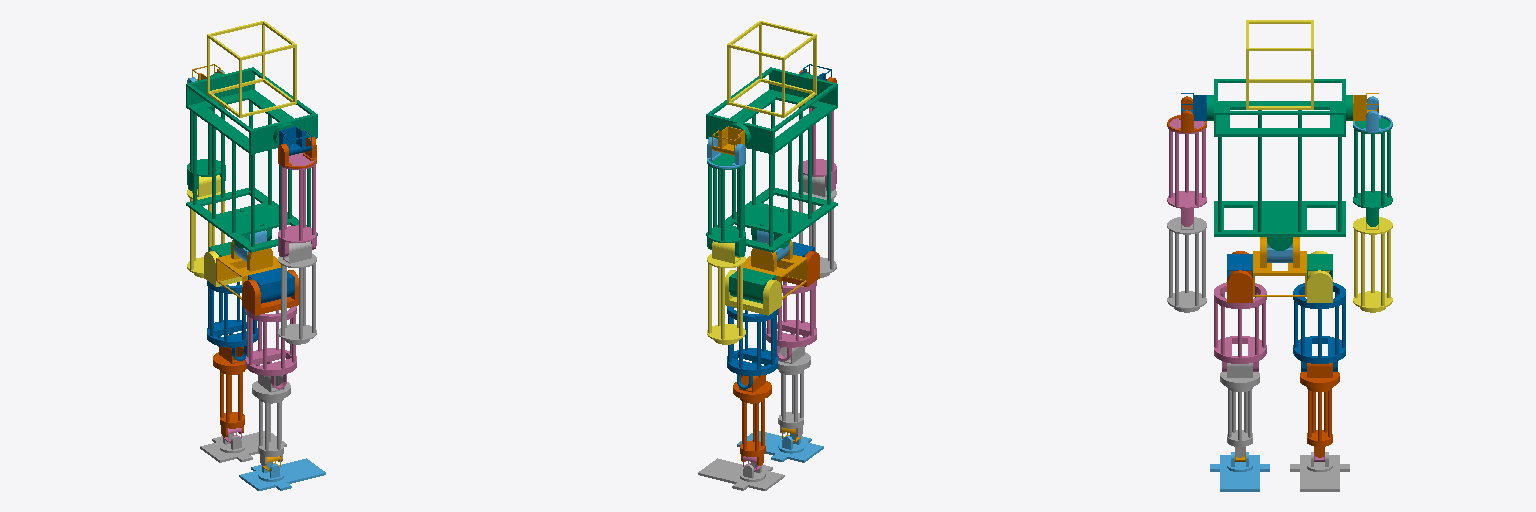
--- Render facts (derived) ---
3 views of the same robot in one strip: view 1: azimuth 30°, elevation 25°; view 2: azimuth 150°, elevation 25°; view 3: azimuth 270°, elevation 25° (orthographic).
Model olympian with 24 links and 23 joints (23 continuous), rooted at base_link, posed all joints at 0.
Visible links, largest first — view 1: Chest_v13_1, Lower_Arm_v8_1, Upper_Leg_v4_1, Upper_Arm_v10_1, Box_Head_v5_1, Upper_Leg_v4_2, Lower_Leg_v6_1, Lower_Leg_v6_2, Foot_v4_1, base_link, Lower_Arm_v8_2, Foot_v4_2 (+5 smaller); view 2: Chest_v13_1, Lower_Arm_v8_2, Upper_Leg_v4_2, Box_Head_v5_1, Upper_Arm_v10_3, Upper_Leg_v4_1, Lower_Leg_v6_2, Lower_Leg_v6_1, Foot_v4_2, base_link, Lower_Arm_v8_1, Foot_v4_1 (+5 smaller); view 3: Chest_v13_1, Upper_Leg_v4_2, Upper_Leg_v4_1, Lower_Arm_v8_1, Lower_Arm_v8_2, Upper_Arm_v10_1, Upper_Arm_v10_3, Lower_Leg_v6_1, Lower_Leg_v6_2, Foot_v4_1, Foot_v4_2, Box_Head_v5_1 (+5 smaller).
Boxes of the visible links, x1,y1,x2,y2 form: Chest_v13_1: [186, 67, 317, 252]; Lower_Arm_v8_1: [278, 241, 316, 344]; Upper_Leg_v4_1: [245, 306, 296, 389]; Upper_Arm_v10_1: [278, 153, 316, 256]; Box_Head_v5_1: [207, 21, 296, 117]; Upper_Leg_v4_2: [207, 281, 257, 360]; Lower_Leg_v6_1: [252, 375, 290, 465]; Lower_Leg_v6_2: [213, 335, 246, 437]; Foot_v4_1: [239, 458, 325, 490]; base_link: [216, 240, 280, 299]; Lower_Arm_v8_2: [187, 175, 225, 277]; Foot_v4_2: [200, 431, 286, 462]; Chest_v13_1: [706, 67, 837, 252]; Lower_Arm_v8_2: [707, 241, 745, 344]; Upper_Leg_v4_2: [727, 306, 777, 389]; Box_Head_v5_1: [727, 21, 816, 117]; Upper_Arm_v10_3: [707, 153, 745, 256]; Upper_Leg_v4_1: [766, 281, 816, 360]; Lower_Leg_v6_2: [733, 375, 771, 465]; Lower_Leg_v6_1: [777, 335, 810, 437]; Foot_v4_2: [698, 458, 784, 490]; base_link: [743, 240, 806, 299]; Lower_Arm_v8_1: [798, 175, 836, 277]; Foot_v4_1: [737, 431, 823, 462]; Chest_v13_1: [1207, 79, 1352, 250]; Upper_Leg_v4_2: [1293, 282, 1345, 371]; Upper_Leg_v4_1: [1214, 282, 1266, 371]; Lower_Arm_v8_1: [1167, 217, 1206, 312]; Lower_Arm_v8_2: [1353, 217, 1392, 312]; Upper_Arm_v10_1: [1167, 118, 1206, 226]; Upper_Arm_v10_3: [1353, 118, 1392, 226]; Lower_Leg_v6_1: [1220, 363, 1259, 457]; Lower_Leg_v6_2: [1300, 363, 1339, 457]; Foot_v4_1: [1210, 452, 1269, 491]; Foot_v4_2: [1290, 452, 1349, 491]; Box_Head_v5_1: [1246, 20, 1313, 109].
Bounding box of the posed robot: 0.35 × 0.85 × 1.81 m (x, y, z).
24 mesh visuals loaded from 24 distinct referenced files (24 binary STL).

robot.urdf — olympian:
<?xml version="1.0" ?>
<robot name="olympian">

<material name="silver">
  <color rgba="0.700 0.700 0.700 1.000"/>
</material>

<link name="base_link">
  <inertial>
    <origin rpy="0 0 0" xyz="0.10000000000000274 -1.5987211554602254e-16 0.8751666232732108"/>
    <mass value="1.1521008690150791"/>
    <inertia ixx="0.008991901943259162" ixy="-9.892367496064471e-18" ixz="0.0" iyy="0.005223496631877156" iyz="-6.132347048742014e-19" izz="0.008530264202422316"/>
  </inertial>
  <visual>
    <origin rpy="0 0 0" xyz="0 0 0"/>
    <geometry>
      <mesh filename="meshes/base_link.stl" scale="0.001 0.001 0.001"/>
    </geometry>
    <material name="silver"/>
    <material/>
  </visual>
  <collision>
    <origin rpy="0 0 0" xyz="0 0 0"/>
    <geometry>
      <mesh filename="meshes/base_link.stl" scale="0.001 0.001 0.001"/>
    </geometry>
  </collision>
</link>

<link name="Pelvis_v7_1">
  <inertial>
    <origin rpy="0 0 0" xyz="2.789435349370706e-15 0.049999999999999864 0.029353425629582097"/>
    <mass value="0.5947505206015595"/>
    <inertia ixx="0.0020170369281689027" ixy="-2.806717788186033e-19" ixz="6.938893903907228e-18" iyy="0.001878872568180201" iyz="-2.3514580861105255e-19" izz="0.0010976440297574977"/>
  </inertial>
  <visual>
    <origin rpy="0 0 0" xyz="-0.1 0.05 -0.915"/>
    <geometry>
      <mesh filename="meshes/Pelvis_v7_1.stl" scale="0.001 0.001 0.001"/>
    </geometry>
    <material name="silver"/>
    <material/>
  </visual>
  <collision>
    <origin rpy="0 0 0" xyz="-0.1 0.05 -0.915"/>
    <geometry>
      <mesh filename="meshes/Pelvis_v7_1.stl" scale="0.001 0.001 0.001"/>
    </geometry>
  </collision>
</link>

<link name="Chest_v13_1">
  <inertial>
    <origin rpy="0 0 0" xyz="0.03750000000000275 -8.168836624811604e-05 0.2954266005963746"/>
    <mass value="5.882339234080889"/>
    <inertia ixx="0.462024450225778" ixy="-1.2945373939476923e-16" ixz="-5.551115123125783e-16" iyy="0.3281120038896219" iyz="-0.0001155294730347088" izz="0.23780786856479988"/>
  </inertial>
  <visual>
    <origin rpy="0 0 0" xyz="-0.0625 0.0 -0.99"/>
    <geometry>
      <mesh filename="meshes/Chest_v13_1.stl" scale="0.001 0.001 0.001"/>
    </geometry>
    <material name="silver"/>
    <material/>
  </visual>
  <collision>
    <origin rpy="0 0 0" xyz="-0.0625 0.0 -0.99"/>
    <geometry>
      <mesh filename="meshes/Chest_v13_1.stl" scale="0.001 0.001 0.001"/>
    </geometry>
  </collision>
</link>

<link name="Box_Head_v5_1">
  <inertial>
    <origin rpy="0 0 0" xyz="1.8735013540549517e-15 2.486899575160351e-16 0.12700000029388225"/>
    <mass value="0.4129840000000015"/>
    <inertia ixx="0.00953546956266682" ixy="-1.2615370792445878e-16" ixz="-8.326672684688674e-17" iyy="0.009535469562667043" iyz="-9.005388077923778e-18" izz="0.009535469562666902"/>
  </inertial>
  <visual>
    <origin rpy="0 0 0" xyz="-0.1 0.0 -1.5564"/>
    <geometry>
      <mesh filename="meshes/Box_Head_v5_1.stl" scale="0.001 0.001 0.001"/>
    </geometry>
    <material name="silver"/>
    <material/>
  </visual>
  <collision>
    <origin rpy="0 0 0" xyz="-0.1 0.0 -1.5564"/>
    <geometry>
      <mesh filename="meshes/Box_Head_v5_1.stl" scale="0.001 0.001 0.001"/>
    </geometry>
  </collision>
</link>

<link name="Upper_Arm_Link_type_b_v9_1">
  <inertial>
    <origin rpy="0 0 0" xyz="3.011479954295737e-15 -0.03931045800644434 -0.010955881721682825"/>
    <mass value="0.11011202726048713"/>
    <inertia ixx="0.00018206077085142214" ixy="0.0" ixz="0.0" iyy="0.00016930933911268875" iyz="-1.861439297221046e-05" izz="0.00022075846035968932"/>
  </inertial>
  <visual>
    <origin rpy="0 0 0" xyz="-0.1 0.275 -1.5064"/>
    <geometry>
      <mesh filename="meshes/Upper_Arm_Link_type_b_v9_1.stl" scale="0.001 0.001 0.001"/>
    </geometry>
    <material name="silver"/>
    <material/>
  </visual>
  <collision>
    <origin rpy="0 0 0" xyz="-0.1 0.275 -1.5064"/>
    <geometry>
      <mesh filename="meshes/Upper_Arm_Link_type_b_v9_1.stl" scale="0.001 0.001 0.001"/>
    </geometry>
  </collision>
</link>

<link name="Upper_Arm_Roll_Link_v5_1">
  <inertial>
    <origin rpy="0 0 0" xyz="0.05000000000000271 7.771561172376096e-16 -0.022135117628713896"/>
    <mass value="0.29143432706119626"/>
    <inertia ixx="0.0002924682777393217" ixy="1.734723475976807e-18" ixz="-6.938893903907228e-18" iyy="0.001232763287599803" iyz="-2.7755575615628914e-17" izz="0.0011938412922212135"/>
  </inertial>
  <visual>
    <origin rpy="0 0 0" xyz="-0.05 0.35 -1.4939"/>
    <geometry>
      <mesh filename="meshes/Upper_Arm_Roll_Link_v5_1.stl" scale="0.001 0.001 0.001"/>
    </geometry>
    <material name="silver"/>
    <material/>
  </visual>
  <collision>
    <origin rpy="0 0 0" xyz="-0.05 0.35 -1.4939"/>
    <geometry>
      <mesh filename="meshes/Upper_Arm_Roll_Link_v5_1.stl" scale="0.001 0.001 0.001"/>
    </geometry>
  </collision>
</link>

<link name="Upper_Arm_v10_1">
  <inertial>
    <origin rpy="0 0 0" xyz="2.706168622523819e-15 -9.46964984205323e-09 -0.20731274229984487"/>
    <mass value="0.9419240929020993"/>
    <inertia ixx="0.018812734327517955" ixy="5.35682609381638e-15" ixz="2.7755575615628914e-17" iyy="0.019683528982801013" iyz="-1.6353901011179062e-09" izz="0.00349831999855843"/>
  </inertial>
  <visual>
    <origin rpy="0 0 0" xyz="-0.1 0.35 -1.43755"/>
    <geometry>
      <mesh filename="meshes/Upper_Arm_v10_1.stl" scale="0.001 0.001 0.001"/>
    </geometry>
    <material name="silver"/>
    <material/>
  </visual>
  <collision>
    <origin rpy="0 0 0" xyz="-0.1 0.35 -1.43755"/>
    <geometry>
      <mesh filename="meshes/Upper_Arm_v10_1.stl" scale="0.001 0.001 0.001"/>
    </geometry>
  </collision>
</link>

<link name="Lower_Arm_v8_1">
  <inertial>
    <origin rpy="0 0 0" xyz="-0.04999999999999716 -1.5210055437364645e-14 -0.22711717106463214"/>
    <mass value="1.1287862597517475"/>
    <inertia ixx="0.025477987567271376" ixy="5.370703881624195e-15" ixz="-1.3877787807814457e-17" iyy="0.025545638419054773" iyz="1.887379141862766e-15" izz="0.0030604925430051666"/>
  </inertial>
  <visual>
    <origin rpy="0 0 0" xyz="-0.15 0.35 -1.07005"/>
    <geometry>
      <mesh filename="meshes/Lower_Arm_v8_1.stl" scale="0.001 0.001 0.001"/>
    </geometry>
    <material name="silver"/>
    <material/>
  </visual>
  <collision>
    <origin rpy="0 0 0" xyz="-0.15 0.35 -1.07005"/>
    <geometry>
      <mesh filename="meshes/Lower_Arm_v8_1.stl" scale="0.001 0.001 0.001"/>
    </geometry>
  </collision>
</link>

<link name="Upper_Arm_Link_type_b_v9_2">
  <inertial>
    <origin rpy="0 0 0" xyz="2.5118795932144167e-15 0.039310458006443616 -0.010955881721682825"/>
    <mass value="0.11011202726048713"/>
    <inertia ixx="0.00018206077085147765" ixy="-1.3010426069826053e-18" ixz="-3.469446951953614e-18" iyy="0.00016930933911263324" iyz="1.8614392972175764e-05" izz="0.00022075846035969453"/>
  </inertial>
  <visual>
    <origin rpy="0 0 0" xyz="-0.1 -0.275 -1.5064"/>
    <geometry>
      <mesh filename="meshes/Upper_Arm_Link_type_b_v9_2.stl" scale="0.001 0.001 0.001"/>
    </geometry>
    <material name="silver"/>
    <material/>
  </visual>
  <collision>
    <origin rpy="0 0 0" xyz="-0.1 -0.275 -1.5064"/>
    <geometry>
      <mesh filename="meshes/Upper_Arm_Link_type_b_v9_2.stl" scale="0.001 0.001 0.001"/>
    </geometry>
  </collision>
</link>

<link name="Upper_Arm_Roll_Link_v5_2">
  <inertial>
    <origin rpy="0 0 0" xyz="0.0500000000000025 -1.0547118733938987e-15 -0.022135117628713452"/>
    <mass value="0.29143432706119626"/>
    <inertia ixx="0.0002924682777396548" ixy="0.0" ixz="0.0" iyy="0.001232763287599914" iyz="-5.551115123125783e-17" izz="0.0011938412922211997"/>
  </inertial>
  <visual>
    <origin rpy="0 0 0" xyz="-0.05 -0.35 -1.4939"/>
    <geometry>
      <mesh filename="meshes/Upper_Arm_Roll_Link_v5_2.stl" scale="0.001 0.001 0.001"/>
    </geometry>
    <material name="silver"/>
    <material/>
  </visual>
  <collision>
    <origin rpy="0 0 0" xyz="-0.05 -0.35 -1.4939"/>
    <geometry>
      <mesh filename="meshes/Upper_Arm_Roll_Link_v5_2.stl" scale="0.001 0.001 0.001"/>
    </geometry>
  </collision>
</link>

<link name="Upper_Arm_v10_3">
  <inertial>
    <origin rpy="0 0 0" xyz="2.6922908347160046e-15 -9.469651840454674e-09 -0.2073127422998453"/>
    <mass value="0.9419240929020993"/>
    <inertia ixx="0.018812734327517955" ixy="5.370703881624195e-15" ixz="1.3877787807814457e-17" iyy="0.019683528982801457" iyz="-1.6353899900956037e-09" izz="0.0034983199985584718"/>
  </inertial>
  <visual>
    <origin rpy="0 0 0" xyz="-0.1 -0.35 -1.43755"/>
    <geometry>
      <mesh filename="meshes/Upper_Arm_v10_3.stl" scale="0.001 0.001 0.001"/>
    </geometry>
    <material name="silver"/>
    <material/>
  </visual>
  <collision>
    <origin rpy="0 0 0" xyz="-0.1 -0.35 -1.43755"/>
    <geometry>
      <mesh filename="meshes/Upper_Arm_v10_3.stl" scale="0.001 0.001 0.001"/>
    </geometry>
  </collision>
</link>

<link name="Lower_Arm_v8_2">
  <inertial>
    <origin rpy="0 0 0" xyz="0.05000000000000264 -1.7263968032921184e-14 -0.22711717106463192"/>
    <mass value="1.1287862597517475"/>
    <inertia ixx="0.025477987567271376" ixy="5.3637649877202875e-15" ixz="0.0" iyy="0.02554563841905466" iyz="1.7763568394002505e-15" izz="0.003060492543005139"/>
  </inertial>
  <visual>
    <origin rpy="0 0 0" xyz="-0.05 -0.35 -1.07005"/>
    <geometry>
      <mesh filename="meshes/Lower_Arm_v8_2.stl" scale="0.001 0.001 0.001"/>
    </geometry>
    <material name="silver"/>
    <material/>
  </visual>
  <collision>
    <origin rpy="0 0 0" xyz="-0.05 -0.35 -1.07005"/>
    <geometry>
      <mesh filename="meshes/Lower_Arm_v8_2.stl" scale="0.001 0.001 0.001"/>
    </geometry>
  </collision>
</link>

<link name="Leg_Pitch_v5_1">
  <inertial>
    <origin rpy="0 0 0" xyz="2.7478019859472624e-15 -0.04683508876022918 0.003164911239771362"/>
    <mass value="0.3280666863874879"/>
    <inertia ixx="0.0009464761938969279" ixy="0.0" ixz="6.938893903907228e-18" iyy="0.0010883631339250188" iyz="5.307553597741488e-05" izz="0.0010883631339250258"/>
  </inertial>
  <visual>
    <origin rpy="0 0 0" xyz="-0.1 0.1 -0.815"/>
    <geometry>
      <mesh filename="meshes/Leg_Pitch_v5_1.stl" scale="0.001 0.001 0.001"/>
    </geometry>
    <material name="silver"/>
    <material/>
  </visual>
  <collision>
    <origin rpy="0 0 0" xyz="-0.1 0.1 -0.815"/>
    <geometry>
      <mesh filename="meshes/Leg_Pitch_v5_1.stl" scale="0.001 0.001 0.001"/>
    </geometry>
  </collision>
</link>

<link name="Leg_Roll_v4_1">
  <inertial>
    <origin rpy="0 0 0" xyz="0.07500000000000276 2.498001805406602e-16 -0.035223067053444135"/>
    <mass value="1.3532798434145876"/>
    <inertia ixx="0.002693883608054004" ixy="3.469446951953614e-18" ixz="0.0" iyy="0.008928053332240449" iyz="0.0" izz="0.00837264452845498"/>
  </inertial>
  <visual>
    <origin rpy="0 0 0" xyz="-0.025 0.15 -0.815"/>
    <geometry>
      <mesh filename="meshes/Leg_Roll_v4_1.stl" scale="0.001 0.001 0.001"/>
    </geometry>
    <material name="silver"/>
    <material/>
  </visual>
  <collision>
    <origin rpy="0 0 0" xyz="-0.025 0.15 -0.815"/>
    <geometry>
      <mesh filename="meshes/Leg_Roll_v4_1.stl" scale="0.001 0.001 0.001"/>
    </geometry>
  </collision>
</link>

<link name="Upper_Leg_v4_1">
  <inertial>
    <origin rpy="0 0 0" xyz="2.4702462297909733e-15 1.6653345369377348e-16 -0.15757232755407302"/>
    <mass value="1.7214182603818151"/>
    <inertia ixx="0.024564314520888808" ixy="-3.469446951953614e-18" ixz="2.7755575615628914e-17" iyy="0.023647064861463507" iyz="-2.7755575615628914e-17" izz="0.01202868114191328"/>
  </inertial>
  <visual>
    <origin rpy="0 0 0" xyz="-0.1 0.15 -0.74"/>
    <geometry>
      <mesh filename="meshes/Upper_Leg_v4_1.stl" scale="0.001 0.001 0.001"/>
    </geometry>
    <material name="silver"/>
    <material/>
  </visual>
  <collision>
    <origin rpy="0 0 0" xyz="-0.1 0.15 -0.74"/>
    <geometry>
      <mesh filename="meshes/Upper_Leg_v4_1.stl" scale="0.001 0.001 0.001"/>
    </geometry>
  </collision>
</link>

<link name="Lower_Leg_v6_1">
  <inertial>
    <origin rpy="0 0 0" xyz="2.345346139520643e-15 0.04999999999999144 -0.14147821247779985"/>
    <mass value="1.4272888897799032"/>
    <inertia ixx="0.020278823604420432" ixy="-2.2169766022983595e-15" ixz="2.0816681711721685e-17" iyy="0.02027203031763286" iyz="-1.3183898417423734e-15" izz="0.003070799531336911"/>
  </inertial>
  <visual>
    <origin rpy="0 0 0" xyz="-0.1 0.2 -0.4418"/>
    <geometry>
      <mesh filename="meshes/Lower_Leg_v6_1.stl" scale="0.001 0.001 0.001"/>
    </geometry>
    <material name="silver"/>
    <material/>
  </visual>
  <collision>
    <origin rpy="0 0 0" xyz="-0.1 0.2 -0.4418"/>
    <geometry>
      <mesh filename="meshes/Lower_Leg_v6_1.stl" scale="0.001 0.001 0.001"/>
    </geometry>
  </collision>
</link>

<link name="Ankle_Link_v5_1">
  <inertial>
    <origin rpy="0 0 0" xyz="0.03000000000000269 5.551115123125783e-16 -0.014239102534719814"/>
    <mass value="0.02966359637804546"/>
    <inertia ixx="2.6914982867941393e-05" ixy="0.0" ixz="-1.0842021724855044e-19" iyy="3.13471723067344e-05" iyz="5.421010862427522e-20" izz="1.4582407636994869e-05"/>
  </inertial>
  <visual>
    <origin rpy="0 0 0" xyz="-0.07 0.15 -0.0886"/>
    <geometry>
      <mesh filename="meshes/Ankle_Link_v5_1.stl" scale="0.001 0.001 0.001"/>
    </geometry>
    <material name="silver"/>
    <material/>
  </visual>
  <collision>
    <origin rpy="0 0 0" xyz="-0.07 0.15 -0.0886"/>
    <geometry>
      <mesh filename="meshes/Ankle_Link_v5_1.stl" scale="0.001 0.001 0.001"/>
    </geometry>
  </collision>
</link>

<link name="Foot_v4_1">
  <inertial>
    <origin rpy="0 0 0" xyz="0.03625642783113289 0.019685521169741094 -0.0403940100478858"/>
    <mass value="0.8921618023336354"/>
    <inertia ixx="0.001976748372483468" ixy="2.766319069119616e-06" ixz="0.0001489881145850828" iyy="0.005514801902865209" iyz="-1.2922841769059251e-06" izz="0.00723725227735432"/>
  </inertial>
  <visual>
    <origin rpy="0 0 0" xyz="-0.1 0.17 -0.0536"/>
    <geometry>
      <mesh filename="meshes/Foot_v4_1.stl" scale="0.001 0.001 0.001"/>
    </geometry>
    <material name="silver"/>
    <material/>
  </visual>
  <collision>
    <origin rpy="0 0 0" xyz="-0.1 0.17 -0.0536"/>
    <geometry>
      <mesh filename="meshes/Foot_v4_1.stl" scale="0.001 0.001 0.001"/>
    </geometry>
  </collision>
</link>

<link name="Leg_Pitch_v5_2">
  <inertial>
    <origin rpy="0 0 0" xyz="2.3869795029440866e-15 0.046835088760228516 0.003164911239771251"/>
    <mass value="0.3280666863874879"/>
    <inertia ixx="0.0009464761938969557" ixy="-8.673617379884035e-19" ixz="3.469446951953614e-18" iyy="0.001088363133924991" iyz="-5.307553597740794e-05" izz="0.0010883631339250258"/>
  </inertial>
  <visual>
    <origin rpy="0 0 0" xyz="-0.1 -0.1 -0.815"/>
    <geometry>
      <mesh filename="meshes/Leg_Pitch_v5_2.stl" scale="0.001 0.001 0.001"/>
    </geometry>
    <material name="silver"/>
    <material/>
  </visual>
  <collision>
    <origin rpy="0 0 0" xyz="-0.1 -0.1 -0.815"/>
    <geometry>
      <mesh filename="meshes/Leg_Pitch_v5_2.stl" scale="0.001 0.001 0.001"/>
    </geometry>
  </collision>
</link>

<link name="Leg_Roll_v4_2">
  <inertial>
    <origin rpy="0 0 0" xyz="0.07500000000000273 -2.7755575615628914e-16 -0.03522306705344391"/>
    <mass value="1.3532798434145876"/>
    <inertia ixx="0.002693883608054115" ixy="-6.938893903907228e-18" ixz="1.3877787807814457e-17" iyy="0.008928053332240782" iyz="0.0" izz="0.008372644528454966"/>
  </inertial>
  <visual>
    <origin rpy="0 0 0" xyz="-0.025 -0.15 -0.815"/>
    <geometry>
      <mesh filename="meshes/Leg_Roll_v4_2.stl" scale="0.001 0.001 0.001"/>
    </geometry>
    <material name="silver"/>
    <material/>
  </visual>
  <collision>
    <origin rpy="0 0 0" xyz="-0.025 -0.15 -0.815"/>
    <geometry>
      <mesh filename="meshes/Leg_Roll_v4_2.stl" scale="0.001 0.001 0.001"/>
    </geometry>
  </collision>
</link>

<link name="Upper_Leg_v4_2">
  <inertial>
    <origin rpy="0 0 0" xyz="2.5118795932144167e-15 -1.1102230246251565e-16 -0.15757232755407302"/>
    <mass value="1.7214182603818151"/>
    <inertia ixx="0.02456431452088903" ixy="0.0" ixz="-1.3877787807814457e-17" iyy="0.023647064861463618" iyz="0.0" izz="0.012028681141913286"/>
  </inertial>
  <visual>
    <origin rpy="0 0 0" xyz="-0.1 -0.15 -0.74"/>
    <geometry>
      <mesh filename="meshes/Upper_Leg_v4_2.stl" scale="0.001 0.001 0.001"/>
    </geometry>
    <material name="silver"/>
    <material/>
  </visual>
  <collision>
    <origin rpy="0 0 0" xyz="-0.1 -0.15 -0.74"/>
    <geometry>
      <mesh filename="meshes/Upper_Leg_v4_2.stl" scale="0.001 0.001 0.001"/>
    </geometry>
  </collision>
</link>

<link name="Lower_Leg_v6_2">
  <inertial>
    <origin rpy="0 0 0" xyz="2.761679773755077e-15 -0.05000000000000848 -0.14147821247779996"/>
    <mass value="1.4272888897799032"/>
    <inertia ixx="0.020278823604420404" ixy="-2.1961599205866378e-15" ixz="1.3877787807814457e-17" iyy="0.02027203031763286" iyz="-1.2906342661267445e-15" izz="0.003070799531336904"/>
  </inertial>
  <visual>
    <origin rpy="0 0 0" xyz="-0.1 -0.2 -0.4418"/>
    <geometry>
      <mesh filename="meshes/Lower_Leg_v6_2.stl" scale="0.001 0.001 0.001"/>
    </geometry>
    <material name="silver"/>
    <material/>
  </visual>
  <collision>
    <origin rpy="0 0 0" xyz="-0.1 -0.2 -0.4418"/>
    <geometry>
      <mesh filename="meshes/Lower_Leg_v6_2.stl" scale="0.001 0.001 0.001"/>
    </geometry>
  </collision>
</link>

<link name="Ankle_Link_v5_2">
  <inertial>
    <origin rpy="0 0 0" xyz="0.030000000000002913 1.6653345369377348e-16 -0.014239102534719814"/>
    <mass value="0.02966359637804546"/>
    <inertia ixx="2.6914982867941284e-05" ixy="1.0842021724855044e-19" ixz="-1.0842021724855044e-19" iyy="3.13471723067344e-05" iyz="0.0" izz="1.4582407636994869e-05"/>
  </inertial>
  <visual>
    <origin rpy="0 0 0" xyz="-0.07 -0.15 -0.0886"/>
    <geometry>
      <mesh filename="meshes/Ankle_Link_v5_2.stl" scale="0.001 0.001 0.001"/>
    </geometry>
    <material name="silver"/>
    <material/>
  </visual>
  <collision>
    <origin rpy="0 0 0" xyz="-0.07 -0.15 -0.0886"/>
    <geometry>
      <mesh filename="meshes/Ankle_Link_v5_2.stl" scale="0.001 0.001 0.001"/>
    </geometry>
  </collision>
</link>

<link name="Foot_v4_2">
  <inertial>
    <origin rpy="0 0 0" xyz="0.03625642783113234 -0.02031447883025933 -0.04039401004788552"/>
    <mass value="0.8921618023336354"/>
    <inertia ixx="0.001976748372483454" ixy="2.7663190691230855e-06" ixz="0.00014898811458507067" iyy="0.00551480190286522" iyz="-1.2922841769050578e-06" izz="0.007237252277354382"/>
  </inertial>
  <visual>
    <origin rpy="0 0 0" xyz="-0.1 -0.17 -0.0536"/>
    <geometry>
      <mesh filename="meshes/Foot_v4_2.stl" scale="0.001 0.001 0.001"/>
    </geometry>
    <material name="silver"/>
    <material/>
  </visual>
  <collision>
    <origin rpy="0 0 0" xyz="-0.1 -0.17 -0.0536"/>
    <geometry>
      <mesh filename="meshes/Foot_v4_2.stl" scale="0.001 0.001 0.001"/>
    </geometry>
  </collision>
</link>

<joint name="Rev1" type="continuous">
  <origin rpy="0 0 0" xyz="0.1 -0.05 0.915"/>
  <parent link="base_link"/>
  <child link="Pelvis_v7_1"/>
  <axis xyz="-0.0 1.0 0.0"/>
</joint>
<transmission name="Rev1_tran">
  <type>transmission_interface/SimpleTransmission</type>
  <joint name="Rev1">
    <hardwareInterface>PositionJointInterface</hardwareInterface>
  </joint>
  <actuator name="Rev1_actr">
    <hardwareInterface>PositionJointInterface</hardwareInterface>
    <mechanicalReduction>1</mechanicalReduction>
  </actuator>
</transmission>

<joint name="Rev2" type="continuous">
  <origin rpy="0 0 0" xyz="-0.0375 0.05 0.075"/>
  <parent link="Pelvis_v7_1"/>
  <child link="Chest_v13_1"/>
  <axis xyz="-1.0 -0.0 -0.0"/>
</joint>
<transmission name="Rev2_tran">
  <type>transmission_interface/SimpleTransmission</type>
  <joint name="Rev2">
    <hardwareInterface>PositionJointInterface</hardwareInterface>
  </joint>
  <actuator name="Rev2_actr">
    <hardwareInterface>PositionJointInterface</hardwareInterface>
    <mechanicalReduction>1</mechanicalReduction>
  </actuator>
</transmission>

<joint name="Rev11" type="continuous">
  <origin rpy="0 0 0" xyz="0.0375 0.0 0.5664"/>
  <parent link="Chest_v13_1"/>
  <child link="Box_Head_v5_1"/>
  <axis xyz="-0.0 -0.0 1.0"/>
</joint>
<transmission name="Rev11_tran">
  <type>transmission_interface/SimpleTransmission</type>
  <joint name="Rev11">
    <hardwareInterface>PositionJointInterface</hardwareInterface>
  </joint>
  <actuator name="Rev11_actr">
    <hardwareInterface>PositionJointInterface</hardwareInterface>
    <mechanicalReduction>1</mechanicalReduction>
  </actuator>
</transmission>

<joint name="Rev3" type="continuous">
  <origin rpy="0 0 0" xyz="0.0375 -0.275 0.5164"/>
  <parent link="Chest_v13_1"/>
  <child link="Upper_Arm_Link_type_b_v9_1"/>
  <axis xyz="0.0 -1.0 -0.0"/>
</joint>
<transmission name="Rev3_tran">
  <type>transmission_interface/SimpleTransmission</type>
  <joint name="Rev3">
    <hardwareInterface>PositionJointInterface</hardwareInterface>
  </joint>
  <actuator name="Rev3_actr">
    <hardwareInterface>PositionJointInterface</hardwareInterface>
    <mechanicalReduction>1</mechanicalReduction>
  </actuator>
</transmission>

<joint name="Rev4" type="continuous">
  <origin rpy="0 0 0" xyz="-0.05 -0.075 -0.0125"/>
  <parent link="Upper_Arm_Link_type_b_v9_1"/>
  <child link="Upper_Arm_Roll_Link_v5_1"/>
  <axis xyz="-1.0 -0.0 0.0"/>
</joint>
<transmission name="Rev4_tran">
  <type>transmission_interface/SimpleTransmission</type>
  <joint name="Rev4">
    <hardwareInterface>PositionJointInterface</hardwareInterface>
  </joint>
  <actuator name="Rev4_actr">
    <hardwareInterface>PositionJointInterface</hardwareInterface>
    <mechanicalReduction>1</mechanicalReduction>
  </actuator>
</transmission>

<joint name="Rev5" type="continuous">
  <origin rpy="0 0 0" xyz="0.05 0.0 -0.05635"/>
  <parent link="Upper_Arm_Roll_Link_v5_1"/>
  <child link="Upper_Arm_v10_1"/>
  <axis xyz="0.0 0.0 -1.0"/>
</joint>
<transmission name="Rev5_tran">
  <type>transmission_interface/SimpleTransmission</type>
  <joint name="Rev5">
    <hardwareInterface>PositionJointInterface</hardwareInterface>
  </joint>
  <actuator name="Rev5_actr">
    <hardwareInterface>PositionJointInterface</hardwareInterface>
    <mechanicalReduction>1</mechanicalReduction>
  </actuator>
</transmission>

<joint name="Rev6" type="continuous">
  <origin rpy="0 0 0" xyz="0.05 0.0 -0.3675"/>
  <parent link="Upper_Arm_v10_1"/>
  <child link="Lower_Arm_v8_1"/>
  <axis xyz="-1.0 -0.0 0.0"/>
</joint>
<transmission name="Rev6_tran">
  <type>transmission_interface/SimpleTransmission</type>
  <joint name="Rev6">
    <hardwareInterface>PositionJointInterface</hardwareInterface>
  </joint>
  <actuator name="Rev6_actr">
    <hardwareInterface>PositionJointInterface</hardwareInterface>
    <mechanicalReduction>1</mechanicalReduction>
  </actuator>
</transmission>

<joint name="Rev7" type="continuous">
  <origin rpy="0 0 0" xyz="0.0375 0.275 0.5164"/>
  <parent link="Chest_v13_1"/>
  <child link="Upper_Arm_Link_type_b_v9_2"/>
  <axis xyz="-0.0 1.0 0.0"/>
</joint>
<transmission name="Rev7_tran">
  <type>transmission_interface/SimpleTransmission</type>
  <joint name="Rev7">
    <hardwareInterface>PositionJointInterface</hardwareInterface>
  </joint>
  <actuator name="Rev7_actr">
    <hardwareInterface>PositionJointInterface</hardwareInterface>
    <mechanicalReduction>1</mechanicalReduction>
  </actuator>
</transmission>

<joint name="Rev8" type="continuous">
  <origin rpy="0 0 0" xyz="-0.05 0.075 -0.0125"/>
  <parent link="Upper_Arm_Link_type_b_v9_2"/>
  <child link="Upper_Arm_Roll_Link_v5_2"/>
  <axis xyz="-1.0 -0.0 -0.0"/>
</joint>
<transmission name="Rev8_tran">
  <type>transmission_interface/SimpleTransmission</type>
  <joint name="Rev8">
    <hardwareInterface>PositionJointInterface</hardwareInterface>
  </joint>
  <actuator name="Rev8_actr">
    <hardwareInterface>PositionJointInterface</hardwareInterface>
    <mechanicalReduction>1</mechanicalReduction>
  </actuator>
</transmission>

<joint name="Rev9" type="continuous">
  <origin rpy="0 0 0" xyz="0.05 0.0 -0.05635"/>
  <parent link="Upper_Arm_Roll_Link_v5_2"/>
  <child link="Upper_Arm_v10_3"/>
  <axis xyz="0.0 0.0 -1.0"/>
</joint>
<transmission name="Rev9_tran">
  <type>transmission_interface/SimpleTransmission</type>
  <joint name="Rev9">
    <hardwareInterface>PositionJointInterface</hardwareInterface>
  </joint>
  <actuator name="Rev9_actr">
    <hardwareInterface>PositionJointInterface</hardwareInterface>
    <mechanicalReduction>1</mechanicalReduction>
  </actuator>
</transmission>

<joint name="Rev10" type="continuous">
  <origin rpy="0 0 0" xyz="-0.05 0.0 -0.3675"/>
  <parent link="Upper_Arm_v10_3"/>
  <child link="Lower_Arm_v8_2"/>
  <axis xyz="1.0 0.0 0.0"/>
</joint>
<transmission name="Rev10_tran">
  <type>transmission_interface/SimpleTransmission</type>
  <joint name="Rev10">
    <hardwareInterface>PositionJointInterface</hardwareInterface>
  </joint>
  <actuator name="Rev10_actr">
    <hardwareInterface>PositionJointInterface</hardwareInterface>
    <mechanicalReduction>1</mechanicalReduction>
  </actuator>
</transmission>

<joint name="Rev12" type="continuous">
  <origin rpy="0 0 0" xyz="0.1 -0.1 0.815"/>
  <parent link="base_link"/>
  <child link="Leg_Pitch_v5_1"/>
  <axis xyz="0.0 -1.0 -0.0"/>
</joint>
<transmission name="Rev12_tran">
  <type>transmission_interface/SimpleTransmission</type>
  <joint name="Rev12">
    <hardwareInterface>PositionJointInterface</hardwareInterface>
  </joint>
  <actuator name="Rev12_actr">
    <hardwareInterface>PositionJointInterface</hardwareInterface>
    <mechanicalReduction>1</mechanicalReduction>
  </actuator>
</transmission>

<joint name="Rev13" type="continuous">
  <origin rpy="0 0 0" xyz="-0.075 -0.05 0.0"/>
  <parent link="Leg_Pitch_v5_1"/>
  <child link="Leg_Roll_v4_1"/>
  <axis xyz="-1.0 -0.0 0.0"/>
</joint>
<transmission name="Rev13_tran">
  <type>transmission_interface/SimpleTransmission</type>
  <joint name="Rev13">
    <hardwareInterface>PositionJointInterface</hardwareInterface>
  </joint>
  <actuator name="Rev13_actr">
    <hardwareInterface>PositionJointInterface</hardwareInterface>
    <mechanicalReduction>1</mechanicalReduction>
  </actuator>
</transmission>

<joint name="Rev14" type="continuous">
  <origin rpy="0 0 0" xyz="0.075 0.0 -0.075"/>
  <parent link="Leg_Roll_v4_1"/>
  <child link="Upper_Leg_v4_1"/>
  <axis xyz="0.0 0.0 -1.0"/>
</joint>
<transmission name="Rev14_tran">
  <type>transmission_interface/SimpleTransmission</type>
  <joint name="Rev14">
    <hardwareInterface>PositionJointInterface</hardwareInterface>
  </joint>
  <actuator name="Rev14_actr">
    <hardwareInterface>PositionJointInterface</hardwareInterface>
    <mechanicalReduction>1</mechanicalReduction>
  </actuator>
</transmission>

<joint name="Rev15" type="continuous">
  <origin rpy="0 0 0" xyz="0.0 -0.05 -0.2982"/>
  <parent link="Upper_Leg_v4_1"/>
  <child link="Lower_Leg_v6_1"/>
  <axis xyz="-0.0 1.0 0.0"/>
</joint>
<transmission name="Rev15_tran">
  <type>transmission_interface/SimpleTransmission</type>
  <joint name="Rev15">
    <hardwareInterface>PositionJointInterface</hardwareInterface>
  </joint>
  <actuator name="Rev15_actr">
    <hardwareInterface>PositionJointInterface</hardwareInterface>
    <mechanicalReduction>1</mechanicalReduction>
  </actuator>
</transmission>

<joint name="Rev16" type="continuous">
  <origin rpy="0 0 0" xyz="-0.03 0.05 -0.3532"/>
  <parent link="Lower_Leg_v6_1"/>
  <child link="Ankle_Link_v5_1"/>
  <axis xyz="1.0 0.0 -0.0"/>
</joint>
<transmission name="Rev16_tran">
  <type>transmission_interface/SimpleTransmission</type>
  <joint name="Rev16">
    <hardwareInterface>PositionJointInterface</hardwareInterface>
  </joint>
  <actuator name="Rev16_actr">
    <hardwareInterface>PositionJointInterface</hardwareInterface>
    <mechanicalReduction>1</mechanicalReduction>
  </actuator>
</transmission>

<joint name="Rev19" type="continuous">
  <origin rpy="0 0 0" xyz="0.03 -0.02 -0.035"/>
  <parent link="Ankle_Link_v5_1"/>
  <child link="Foot_v4_1"/>
  <axis xyz="0.0 -1.0 -0.0"/>
</joint>
<transmission name="Rev19_tran">
  <type>transmission_interface/SimpleTransmission</type>
  <joint name="Rev19">
    <hardwareInterface>PositionJointInterface</hardwareInterface>
  </joint>
  <actuator name="Rev19_actr">
    <hardwareInterface>PositionJointInterface</hardwareInterface>
    <mechanicalReduction>1</mechanicalReduction>
  </actuator>
</transmission>

<joint name="Rev20" type="continuous">
  <origin rpy="0 0 0" xyz="0.1 0.1 0.815"/>
  <parent link="base_link"/>
  <child link="Leg_Pitch_v5_2"/>
  <axis xyz="-0.0 1.0 0.0"/>
</joint>
<transmission name="Rev20_tran">
  <type>transmission_interface/SimpleTransmission</type>
  <joint name="Rev20">
    <hardwareInterface>PositionJointInterface</hardwareInterface>
  </joint>
  <actuator name="Rev20_actr">
    <hardwareInterface>PositionJointInterface</hardwareInterface>
    <mechanicalReduction>1</mechanicalReduction>
  </actuator>
</transmission>

<joint name="Rev21" type="continuous">
  <origin rpy="0 0 0" xyz="-0.075 0.05 0.0"/>
  <parent link="Leg_Pitch_v5_2"/>
  <child link="Leg_Roll_v4_2"/>
  <axis xyz="-1.0 -0.0 -0.0"/>
</joint>
<transmission name="Rev21_tran">
  <type>transmission_interface/SimpleTransmission</type>
  <joint name="Rev21">
    <hardwareInterface>PositionJointInterface</hardwareInterface>
  </joint>
  <actuator name="Rev21_actr">
    <hardwareInterface>PositionJointInterface</hardwareInterface>
    <mechanicalReduction>1</mechanicalReduction>
  </actuator>
</transmission>

<joint name="Rev22" type="continuous">
  <origin rpy="0 0 0" xyz="0.075 0.0 -0.075"/>
  <parent link="Leg_Roll_v4_2"/>
  <child link="Upper_Leg_v4_2"/>
  <axis xyz="0.0 0.0 -1.0"/>
</joint>
<transmission name="Rev22_tran">
  <type>transmission_interface/SimpleTransmission</type>
  <joint name="Rev22">
    <hardwareInterface>PositionJointInterface</hardwareInterface>
  </joint>
  <actuator name="Rev22_actr">
    <hardwareInterface>PositionJointInterface</hardwareInterface>
    <mechanicalReduction>1</mechanicalReduction>
  </actuator>
</transmission>

<joint name="Rev23" type="continuous">
  <origin rpy="0 0 0" xyz="0.0 0.05 -0.2982"/>
  <parent link="Upper_Leg_v4_2"/>
  <child link="Lower_Leg_v6_2"/>
  <axis xyz="0.0 -1.0 -0.0"/>
</joint>
<transmission name="Rev23_tran">
  <type>transmission_interface/SimpleTransmission</type>
  <joint name="Rev23">
    <hardwareInterface>PositionJointInterface</hardwareInterface>
  </joint>
  <actuator name="Rev23_actr">
    <hardwareInterface>PositionJointInterface</hardwareInterface>
    <mechanicalReduction>1</mechanicalReduction>
  </actuator>
</transmission>

<joint name="Rev24" type="continuous">
  <origin rpy="0 0 0" xyz="-0.03 -0.05 -0.3532"/>
  <parent link="Lower_Leg_v6_2"/>
  <child link="Ankle_Link_v5_2"/>
  <axis xyz="1.0 0.0 0.0"/>
</joint>
<transmission name="Rev24_tran">
  <type>transmission_interface/SimpleTransmission</type>
  <joint name="Rev24">
    <hardwareInterface>PositionJointInterface</hardwareInterface>
  </joint>
  <actuator name="Rev24_actr">
    <hardwareInterface>PositionJointInterface</hardwareInterface>
    <mechanicalReduction>1</mechanicalReduction>
  </actuator>
</transmission>

<joint name="Rev25" type="continuous">
  <origin rpy="0 0 0" xyz="0.03 0.02 -0.035"/>
  <parent link="Ankle_Link_v5_2"/>
  <child link="Foot_v4_2"/>
  <axis xyz="-0.0 1.0 0.0"/>
</joint>
<transmission name="Rev25_tran">
  <type>transmission_interface/SimpleTransmission</type>
  <joint name="Rev25">
    <hardwareInterface>PositionJointInterface</hardwareInterface>
  </joint>
  <actuator name="Rev25_actr">
    <hardwareInterface>PositionJointInterface</hardwareInterface>
    <mechanicalReduction>1</mechanicalReduction>
  </actuator>
</transmission>

</robot>
